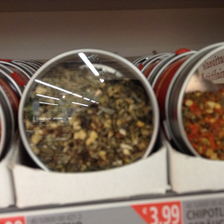spices: (18, 48, 159, 172), (167, 41, 224, 162)
